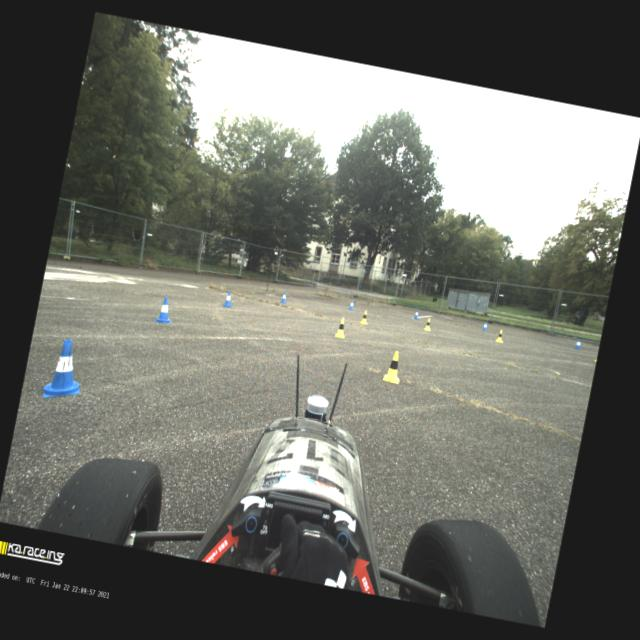blue_cone: (42, 336, 89, 404), (155, 296, 176, 326), (222, 290, 235, 308), (280, 291, 288, 304), (574, 338, 582, 349), (413, 308, 420, 320), (348, 300, 356, 310), (482, 321, 488, 331)
yellow_cone: (383, 350, 405, 384), (335, 316, 348, 338), (360, 310, 370, 326), (423, 318, 432, 332), (495, 329, 504, 343)
